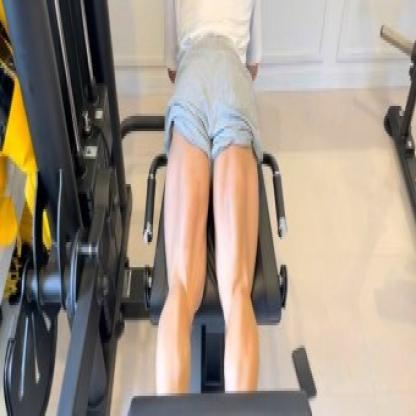reg curl machine: (2, 0, 316, 416)
